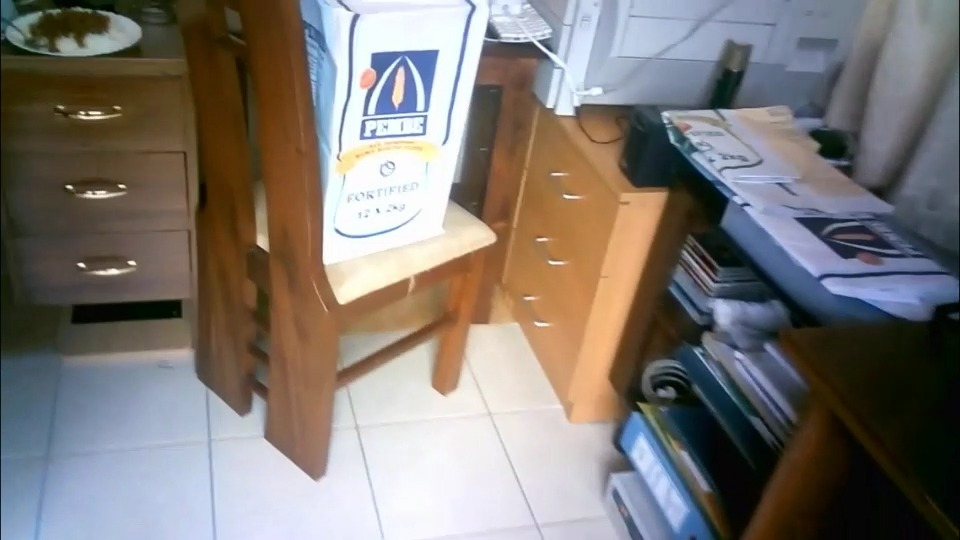wheat_flour_blue_label: (309, 7, 483, 249)
